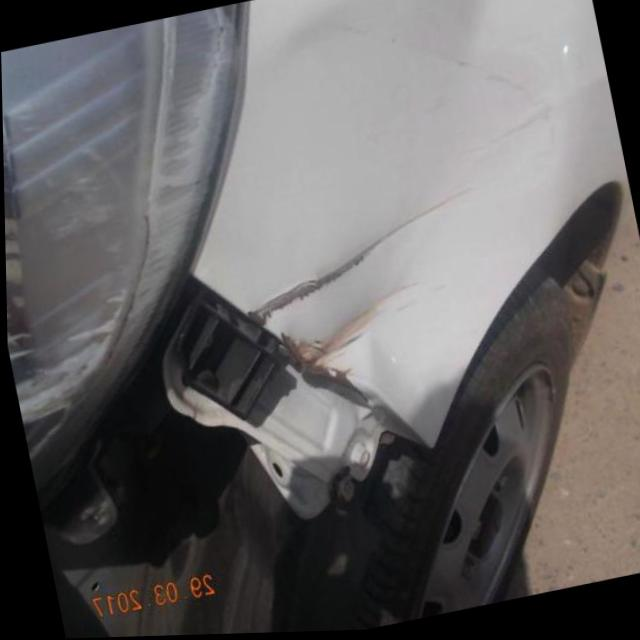Car-Damage: (266, 0, 576, 216), (220, 181, 497, 337), (265, 268, 443, 391)
